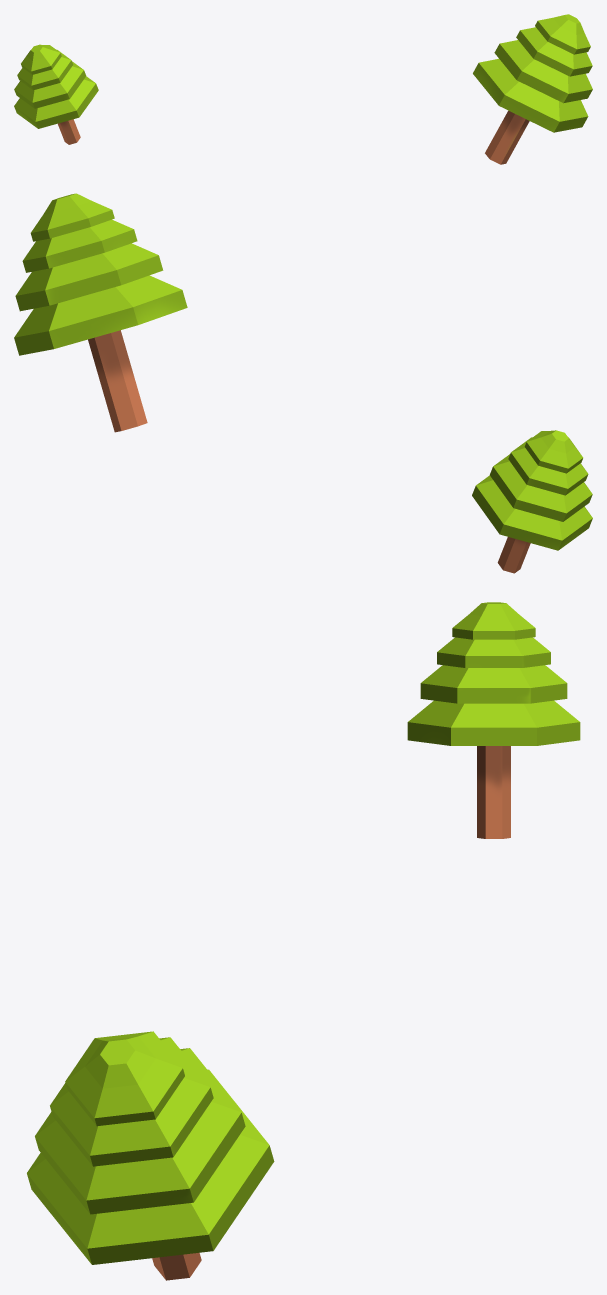
Rendered from treeTile4.obj.
3 views of the same model, one above another, from view 1: azimuth 30°, elevation 25°; view 2: azimuth 150°, elevation 25°; view 3: azimuth 270°, elevation 25° (orthographic). The views are drawn at different scales.
Visible parts, largest first — view 1: TreeTile4_Cylinder.007; view 2: TreeTile4_Cylinder.007; view 3: TreeTile4_Cylinder.007.
Part boxes in pixels (bbox=[...]): TreeTile4_Cylinder.007: bbox=[14, 14, 592, 164]; TreeTile4_Cylinder.007: bbox=[14, 193, 592, 573]; TreeTile4_Cylinder.007: bbox=[27, 602, 580, 1280].
Bounding box in the file's own units: 7.79 × 2.39 × 3.96.
